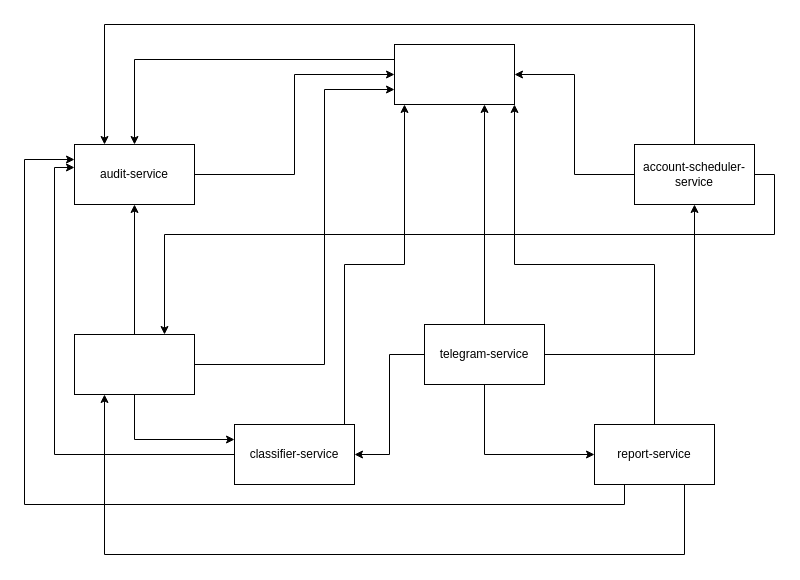
Image size: 800x580. Some labels were removed from this diagram. Each missing label, with the centre of its shape:
"account-service" goes at pixel 134 364.
"user-service" goes at pixel 454 74.
